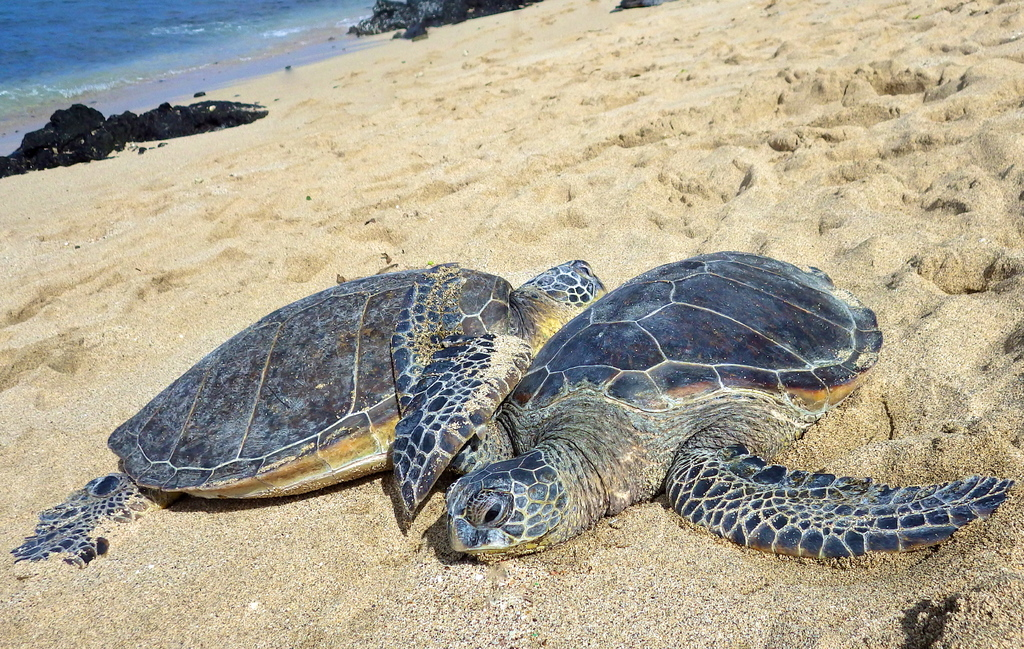Sea turtles: (8, 252, 608, 570), (436, 246, 1015, 570)
